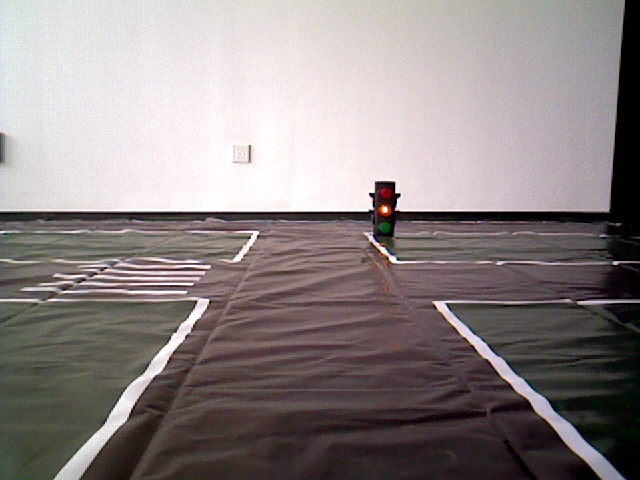yellow: (373, 183, 397, 234)
